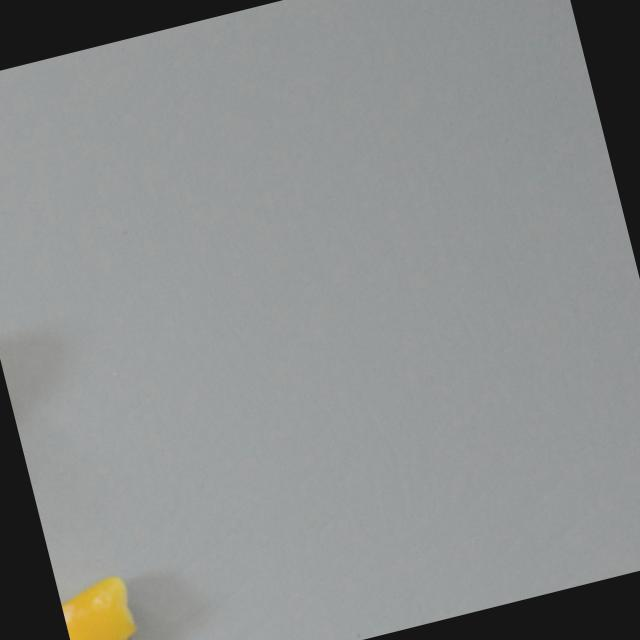pelicula: (57, 570, 144, 640)
